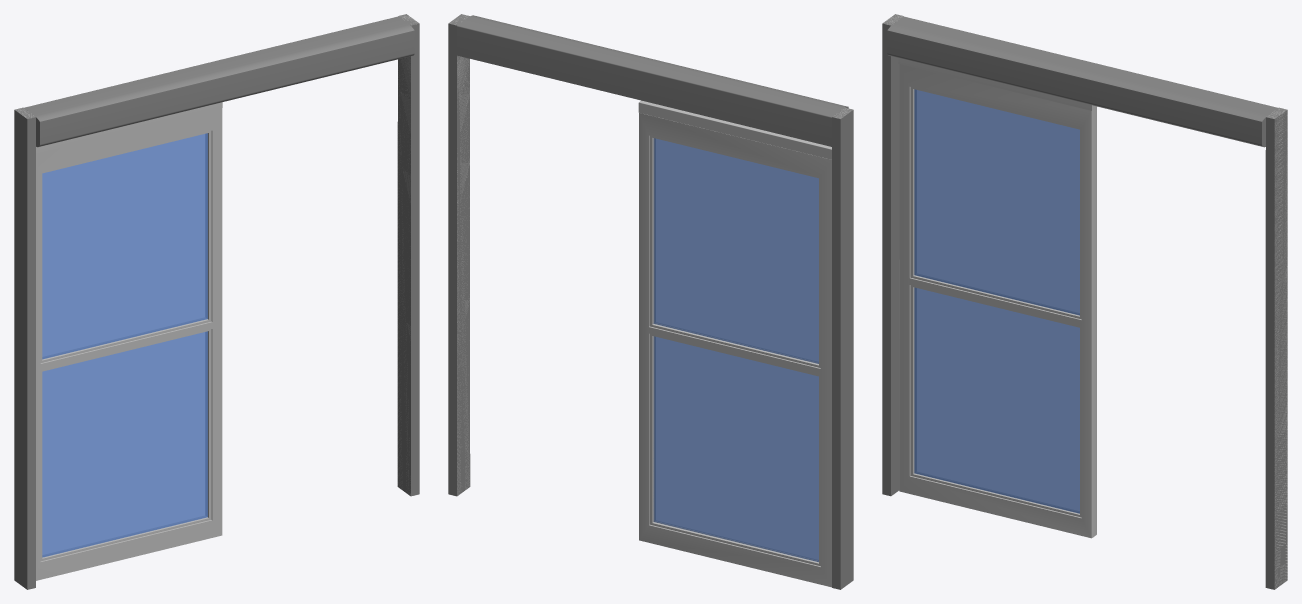
The model's file is Glass door.dae.
3 renders of one model, left to right at view 1: azimuth 30°, elevation 25°; view 2: azimuth 150°, elevation 25°; view 3: azimuth 330°, elevation 25°, orthographic.
Visible parts, largest first — view 1: Component_4, Component_3, Component_1 (×5), group_0 (×3), _1.dwg, Component_5; view 2: Component_3, Component_4, Component_1 (×5), group_0 (×3), _1.dwg, Component_5; view 3: Component_4, Component_3, Component_1 (×5), group_0 (×3), _1.dwg, Component_5.
Boxes of the visible parts, <box> form: Component_4: <box>42,331,207,557</box>; Component_3: <box>42,133,207,359</box>; Component_1 (×5): <box>36,108,222,580</box>; group_0 (×3): <box>14,14,419,589</box>; _1.dwg: <box>24,16,414,147</box>; Component_5: <box>36,102,222,153</box>; Component_3: <box>653,138,818,363</box>; Component_4: <box>653,336,818,562</box>; Component_1 (×5): <box>639,113,831,587</box>; group_0 (×3): <box>448,14,853,589</box>; _1.dwg: <box>457,15,848,146</box>; Component_5: <box>638,100,831,159</box>; Component_4: <box>914,287,1079,513</box>; Component_3: <box>914,89,1079,315</box>; Component_1 (×5): <box>899,64,1096,538</box>; group_0 (×3): <box>882,23,1287,589</box>; _1.dwg: <box>887,16,1277,147</box>; Component_5: <box>898,58,1096,110</box>.
Bounding box in the file's own units: 78.26 × 5.79 × 89.76.
